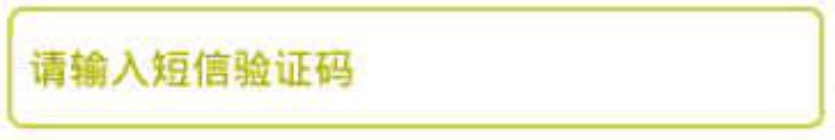EditText: (1, 1, 834, 139)
